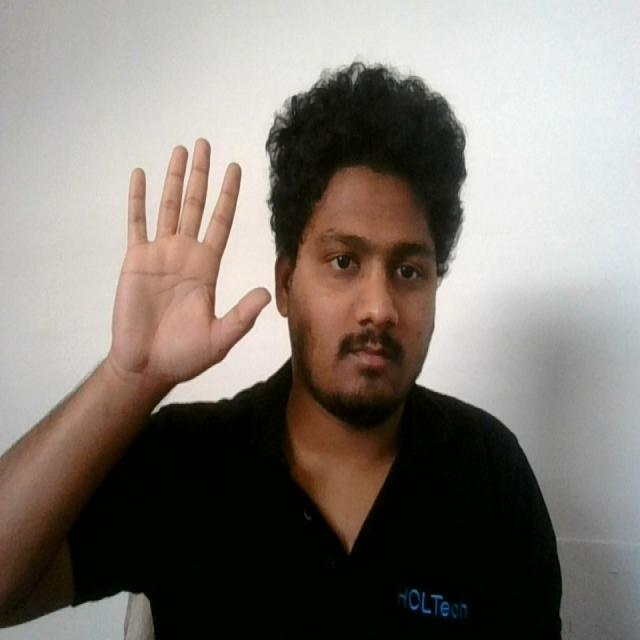Hello: (104, 129, 275, 396)
